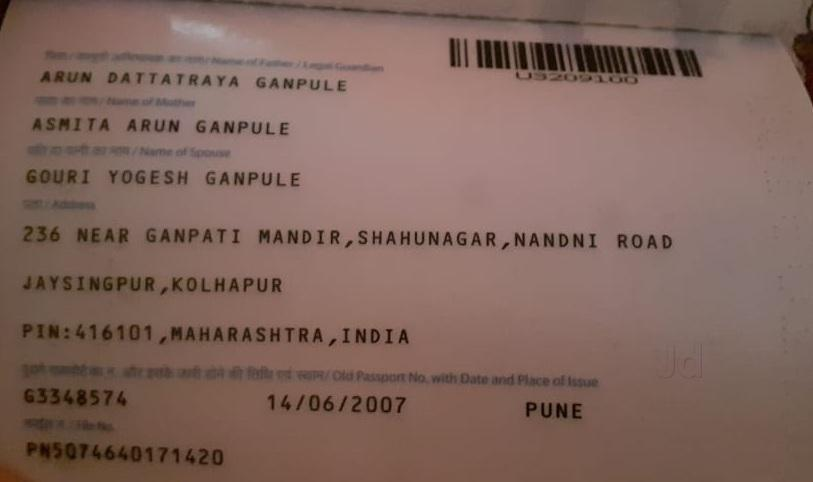File_no: (18, 430, 238, 481)
address: (5, 214, 688, 356)
father_name: (27, 60, 354, 100)
mother_name: (26, 109, 297, 140)
old_passport_details: (15, 380, 600, 425)
passport_no: (504, 59, 645, 90)
spouse_name: (19, 158, 316, 195)
